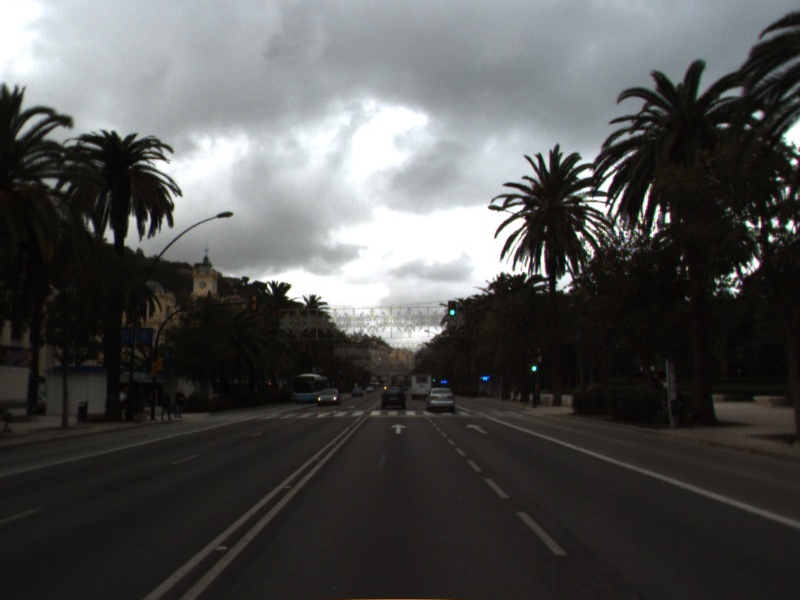STRAIGHT: (464, 421, 490, 436), (388, 421, 410, 436)
